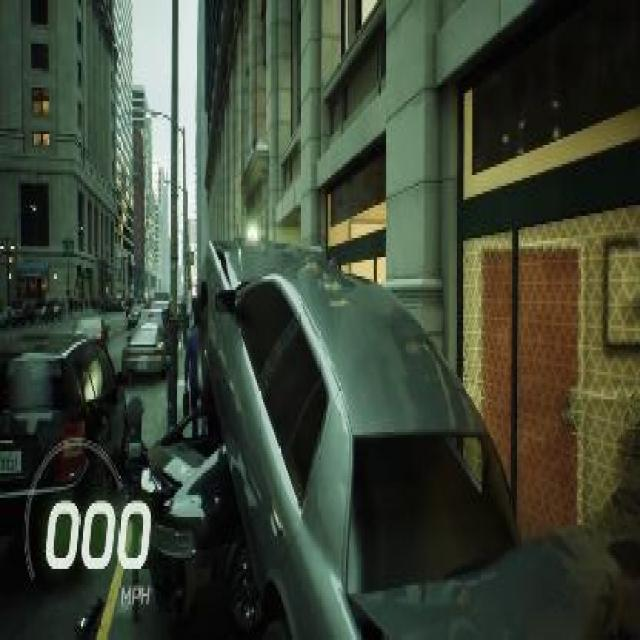accident: (134, 220, 638, 639)
